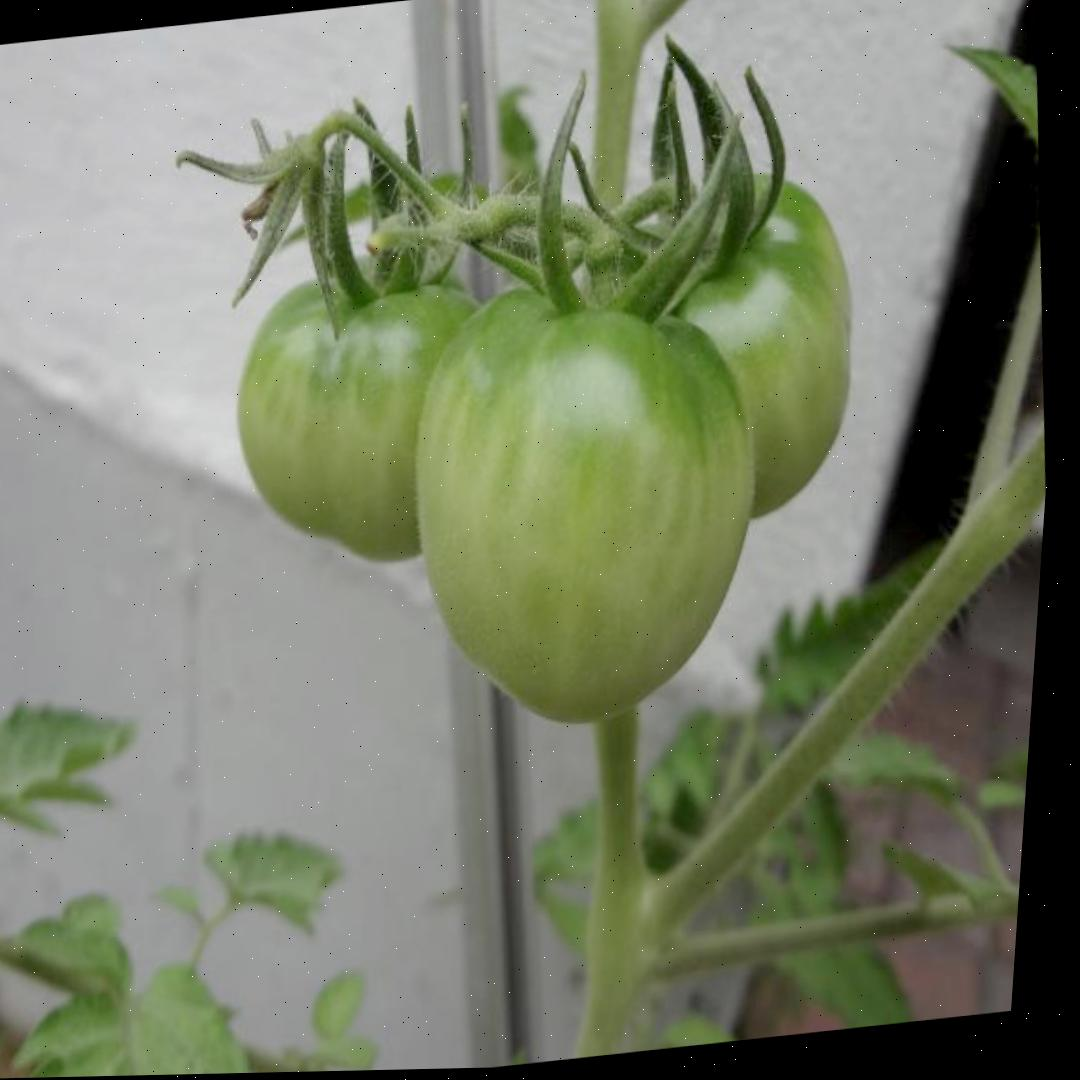mentah: (380, 262, 790, 749), (208, 237, 526, 584)
